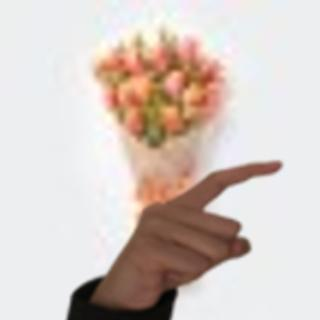WHY: (92, 152, 291, 310)
